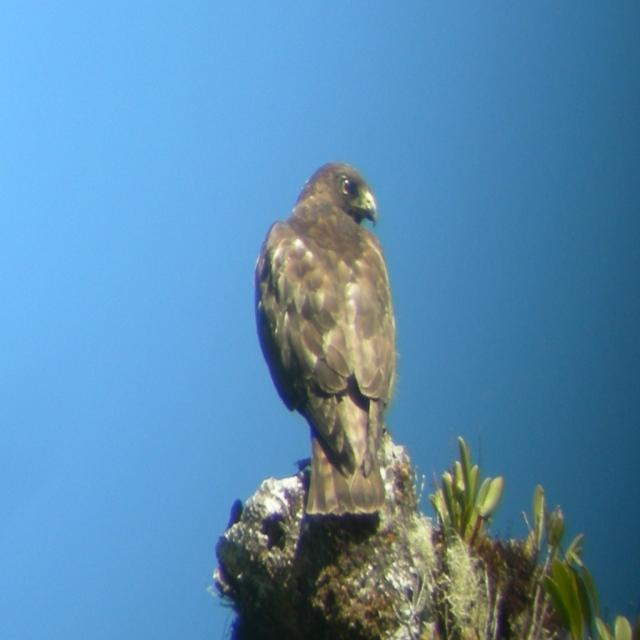bird: (251, 158, 400, 570)
